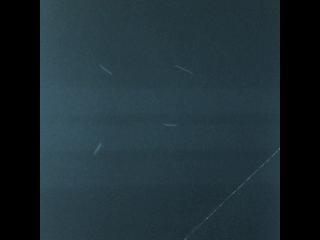crack: (184, 148, 280, 240)
scratch: (171, 54, 198, 84), (94, 58, 118, 82), (88, 139, 110, 160), (158, 116, 183, 134)
